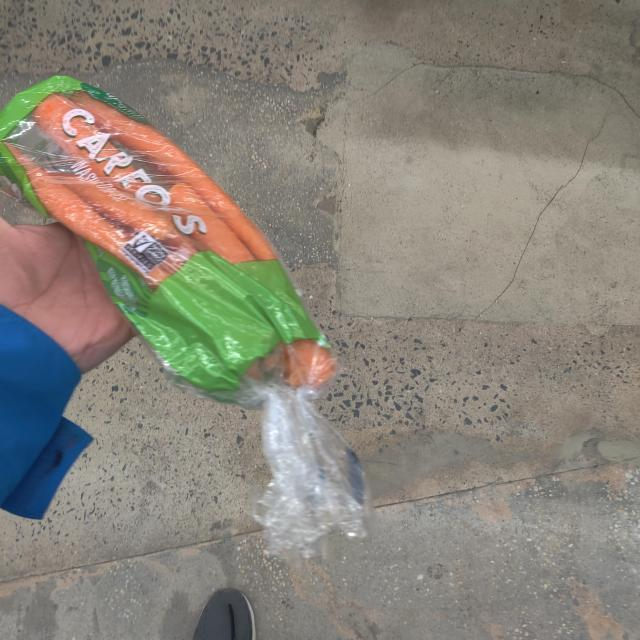Carrots: (0, 75, 368, 545)
